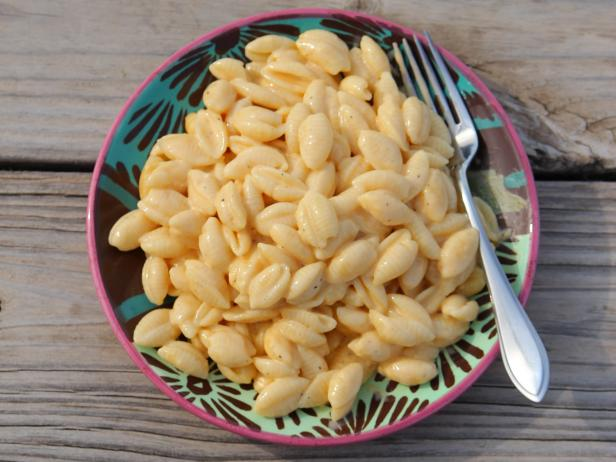macncheese: (104, 25, 508, 423)
